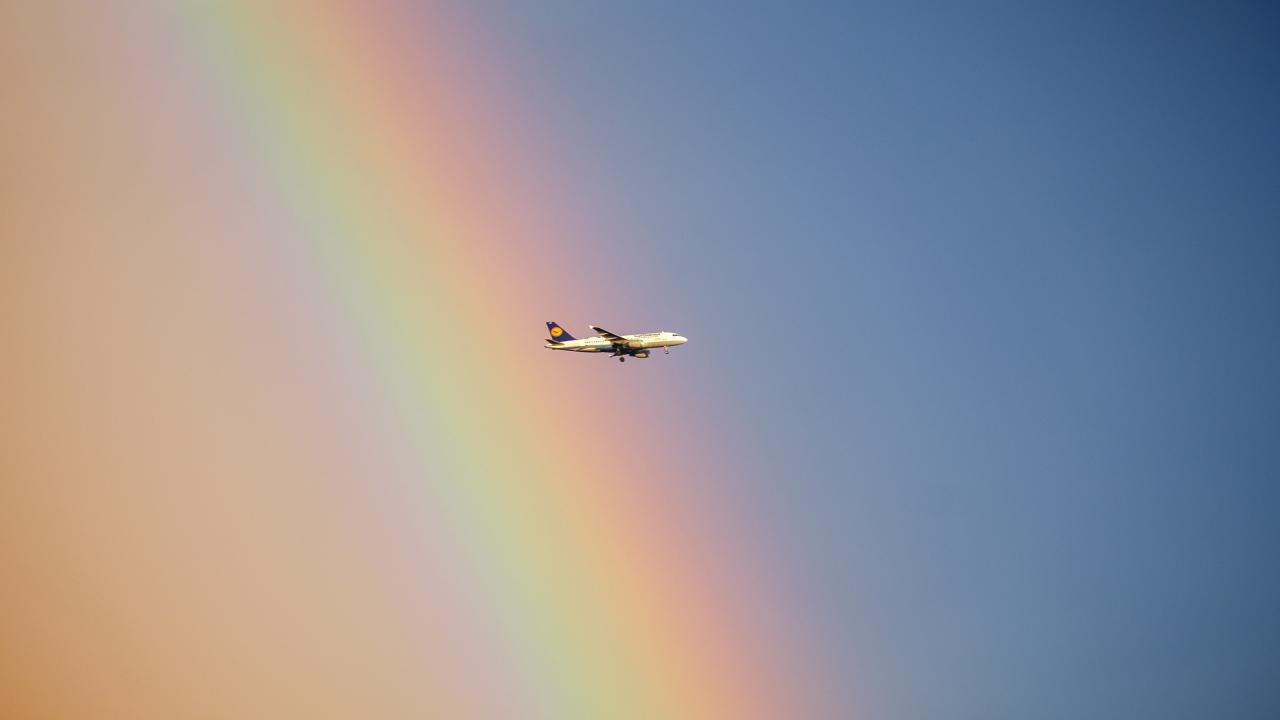Airplane: (521, 302, 701, 368)
